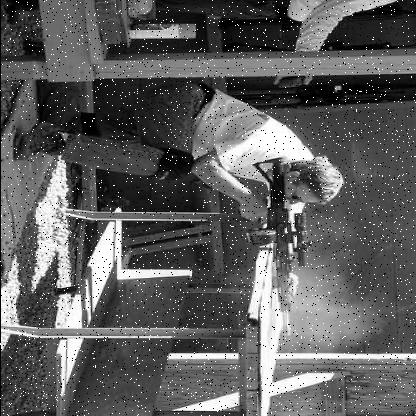rifle: (235, 149, 320, 349)
